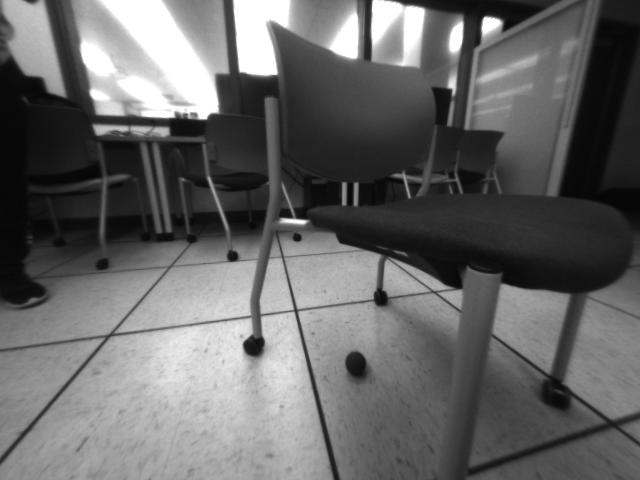dogtoy: (336, 344, 376, 382)
